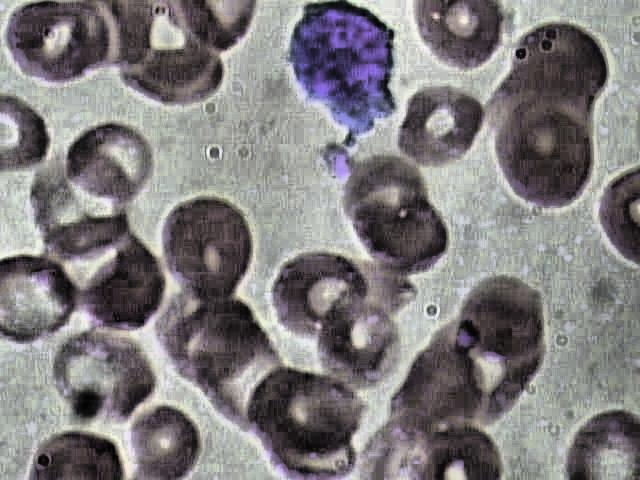Platelets: (316, 141, 358, 184)
RBC: (242, 366, 369, 462), (156, 195, 263, 304), (48, 326, 159, 425), (2, 0, 113, 88), (266, 250, 366, 343), (456, 274, 550, 362), (65, 118, 154, 206), (0, 249, 79, 348), (397, 86, 487, 171), (416, 0, 509, 79), (124, 406, 206, 479), (25, 430, 125, 479), (0, 92, 51, 176)
WBC: (271, 0, 406, 148)
